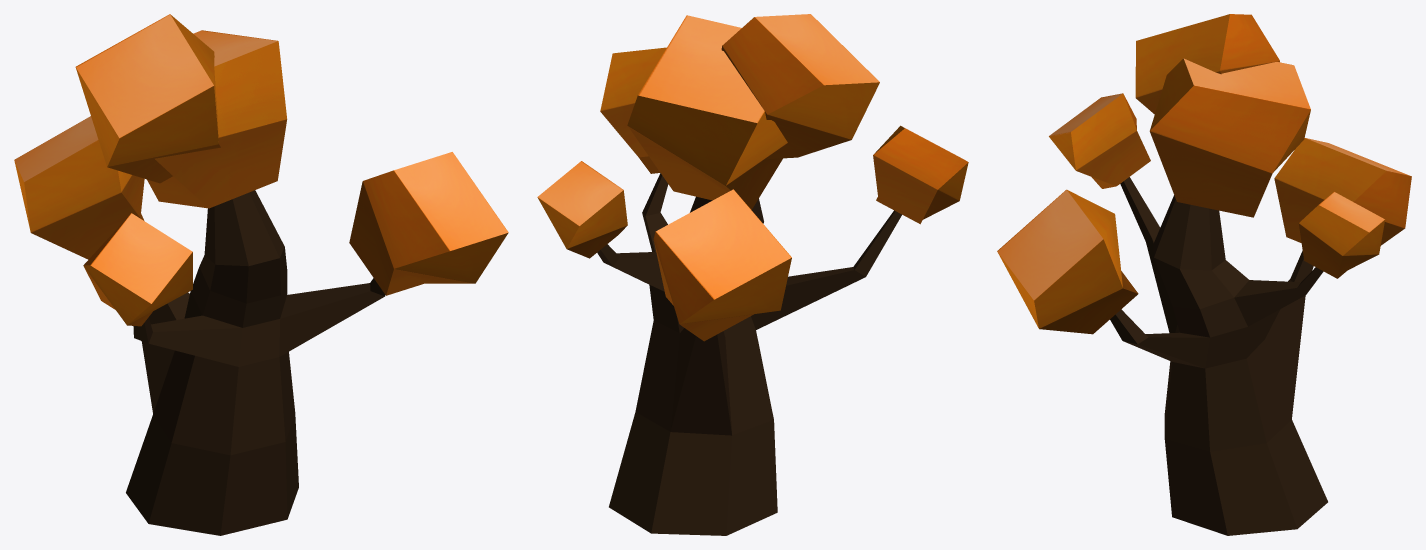
File: Tree03.fbx
3 renders of one model, left to right at view 1: azimuth 30°, elevation 25°; view 2: azimuth 150°, elevation 25°; view 3: azimuth 270°, elevation 25°, orthographic. The views are drawn at different scales.
Parts seen in each view (by area): view 1: Circle; view 2: Circle; view 3: Circle.
Boxes of the visible parts, x1,y1,x2,y2 form: Circle: (14, 14, 508, 535); Circle: (537, 14, 968, 535); Circle: (997, 14, 1411, 535).
Size of the model in its own units: 248 by 312 by 252.
